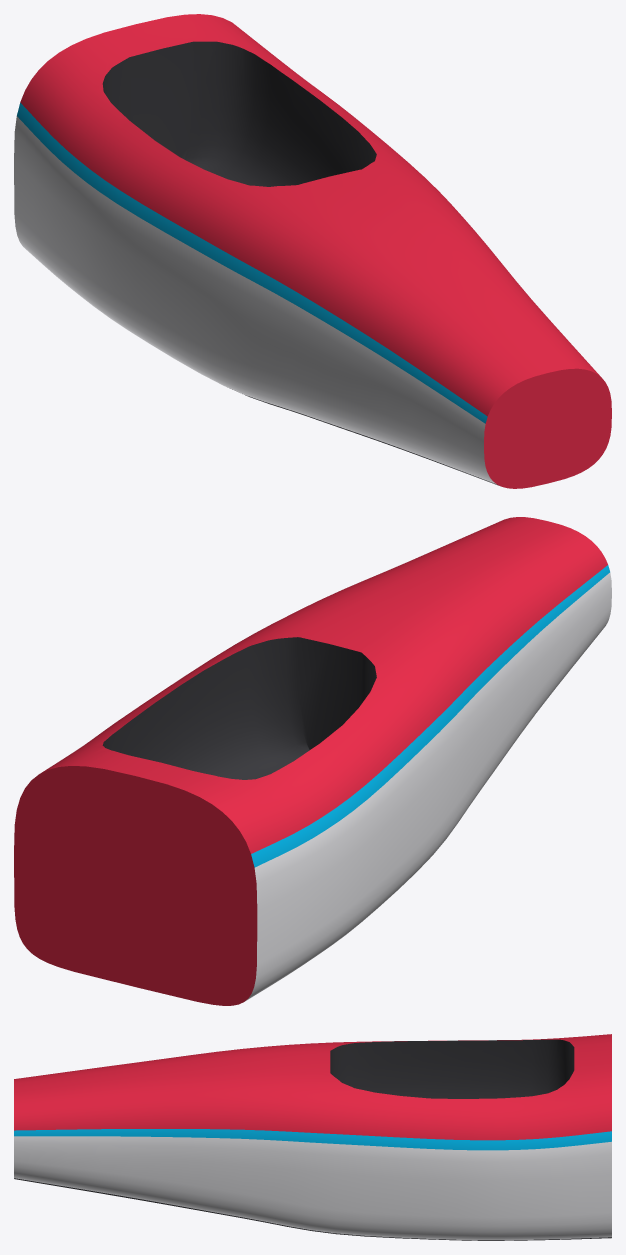
The model's file is standard.glb.
3 renders of one model, top to bottom at view 1: azimuth 30°, elevation 25°; view 2: azimuth 150°, elevation 25°; view 3: azimuth 270°, elevation 25°, orthographic. The views are drawn at different scales.
Parts seen in each view (by area): view 1: Chassis; view 2: Chassis; view 3: Chassis.
Boxes of the visible parts, x1,y1,x2,y2 form: Chassis: (14, 14, 611, 488); Chassis: (14, 517, 611, 1005); Chassis: (14, 1034, 611, 1240).
Size of the model in its own units: 0.8075 by 0.6307 by 2.23.
